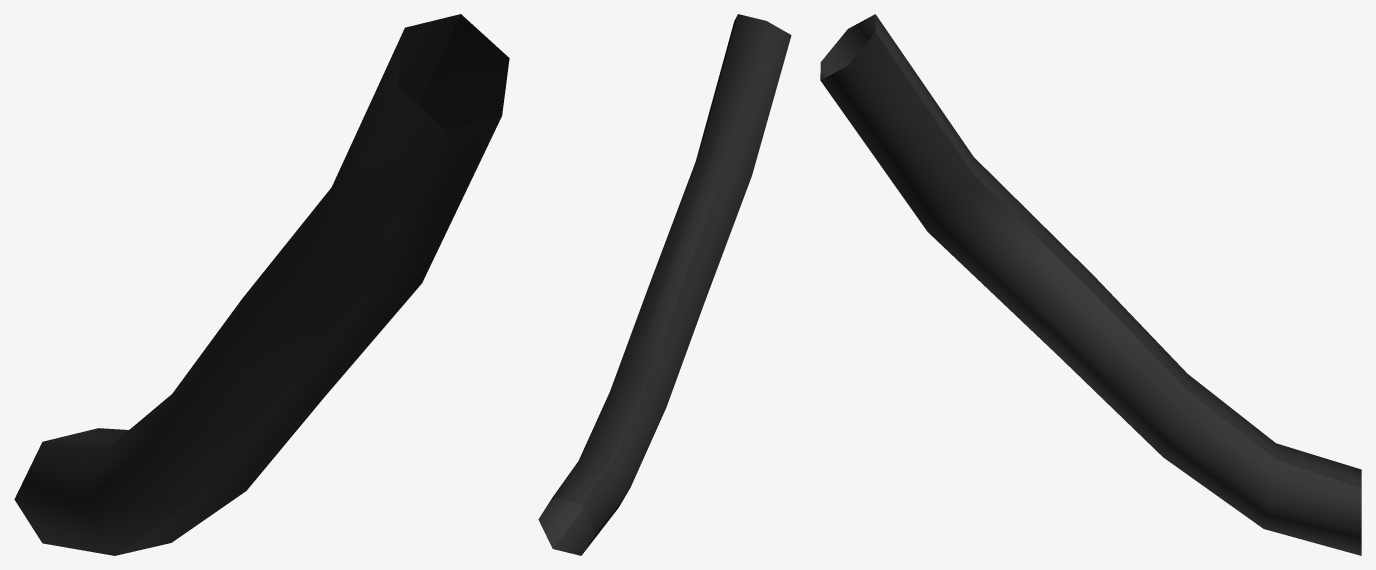
File: electrical_bend_angled_tiny.dae
3 views of the same model, side by side, from view 1: azimuth 30°, elevation 25°; view 2: azimuth 150°, elevation 25°; view 3: azimuth 270°, elevation 25° (orthographic). The views are drawn at different scales.
Parts seen in each view (by area): view 1: Mesh; view 2: Mesh; view 3: Mesh.
Part boxes in pixels (bbox=[...]): Mesh: bbox=[14, 14, 509, 555]; Mesh: bbox=[538, 14, 791, 555]; Mesh: bbox=[820, 14, 1361, 555].
Size of the model in its own units: 0.0169 by 0.1125 by 0.1054.
